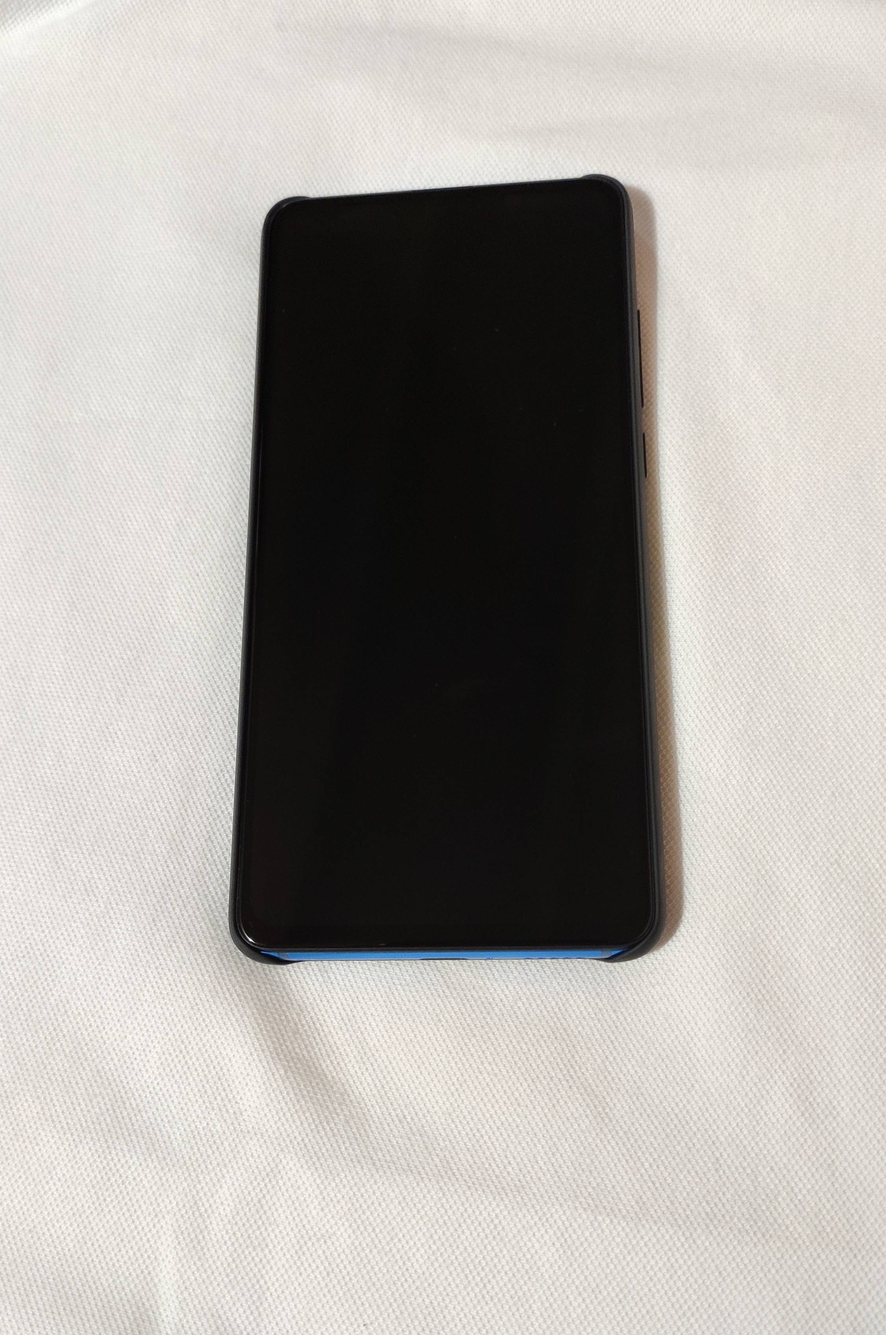Electronics: (197, 149, 709, 1013)
